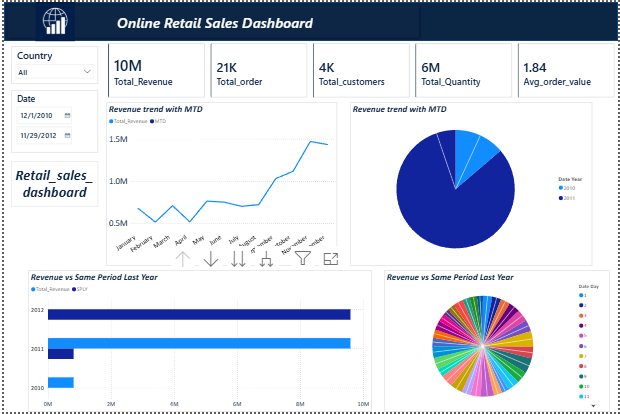

The dashboard page shown, as its layout file describes it:
{"tool":"powerbi","page":{"name":"Sales_Analysis","canvas":[1536,1024],"ordinal":1},"visuals":[{"type":"shape","box":[0,0,1535,97.5],"z":0},{"type":"shape","box":[0,0,1046.7,98.3],"z":1000},{"type":"cardVisual","fields":{"Data":["Retail_data.Total_Revenue","Retail_data.Total_order","Retail_data.Total_customers","Retail_data.Total_Quantity","Retail_data.Avg_order_value","Retail_data.Avg_order_value"]},"box":[255,97.5,1280,147.5],"z":2000},{"type":"slicer","fields":{"Values":["Retail_data.Country"]},"box":[18.3,110,218.3,95],"z":3000},{"type":"slicer","fields":{"Values":["Custom_Calender.Date"]},"box":[18.3,220,218.3,156.7],"z":4000},{"type":"lineChart","title":"Revenue trend with MTD","fields":{"Category":["Custom_Calender.Date.Variation.Date Hierarchy.Month"],"Y":["Retail_data.Total_Revenue","Retail_data.MTD"]},"box":[256,250,578,410],"z":5000},{"type":"clusteredBarChart","title":"Revenue vs Same Period Last Year","fields":{"Category":["Custom_Calender.Date.Variation.Date Hierarchy.Year","Custom_Calender.Date.Variation.Date Hierarchy.Month"],"Y":["Retail_data.Total_Revenue","Retail_data.SPLY"]},"box":[60,670,860,355],"z":6000},{"type":"pageNavigator","box":[18,398,218,114],"z":7000},{"type":"pieChart","title":"Revenue share by year","fields":{"Category":["Custom_Calender.Date.Variation.Date Hierarchy.Year","Custom_Calender.Date.Variation.Date Hierarchy.Quarter","Custom_Calender.Date.Variation.Date Hierarchy.Day"],"Y":["Retail_data.Total_Revenue","Retail_data.MTD"]},"box":[866,250,606,410],"z":8000},{"type":"clusteredColumnChart","title":"Revenue by year/day","fields":{"Category":["Custom_Calender.Date.Variation.Date Hierarchy.Year","Custom_Calender.Date.Variation.Date Hierarchy.Quarter","Custom_Calender.Date.Variation.Date Hierarchy.Day"],"Y":["Retail_data.Total Revenue","Retail_data.SPLY"]},"box":[950,670,565,355],"z":9000},{"type":"image","box":[0,0,255.6,97.8],"z":10000}]}

Visuals, with their boxes in screenshot pixels (x1, y1, x2, y2), scaled from the page's 1536x1024 canvas onto the 620x414 screenshot:
shape: crop(0, 0, 619, 39)
shape: crop(0, 0, 422, 40)
cardVisual - Retail_data.Total_Revenue x Retail_data.Total_order: crop(103, 39, 619, 99)
slicer - Retail_data.Country: crop(7, 44, 96, 83)
slicer - Custom_Calender.Date: crop(7, 89, 96, 152)
"Revenue trend with MTD" lineChart: crop(103, 101, 337, 267)
"Revenue vs Same Period Last Year" clusteredBarChart: crop(24, 271, 371, 413)
pageNavigator: crop(7, 161, 95, 207)
"Revenue share by year" pieChart: crop(350, 101, 594, 267)
"Revenue by year/day" clusteredColumnChart: crop(383, 271, 612, 413)
image: crop(0, 0, 103, 40)
